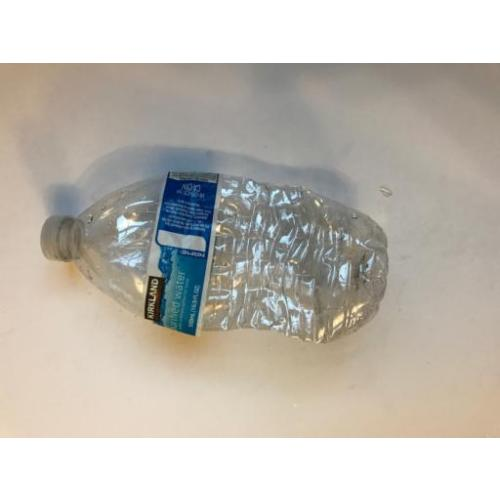plastic: (43, 171, 390, 343)
